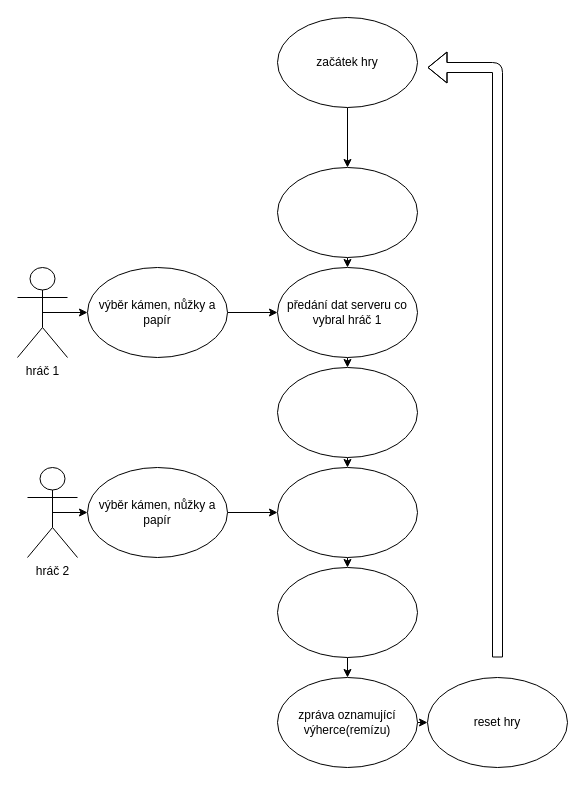
Image size: 585x785. Some labels were removed from this diagram. Each missing label, with the centre of its shape:
"hra vyhodnotí kdo vyhral nebo pokub byla remíza" belongs at [347,612].
"předání dat serveru co vybral hráč 2" belongs at [347,512].
"čekání na výběr 1 hráče" belongs at [347,212].
"čekání na výběr 2 hráče" belongs at [347,412].
